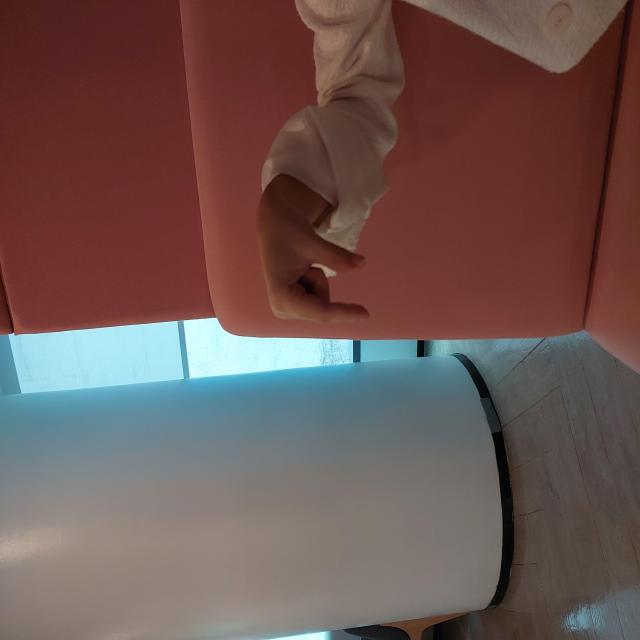Q: (316, 256, 418, 371)
